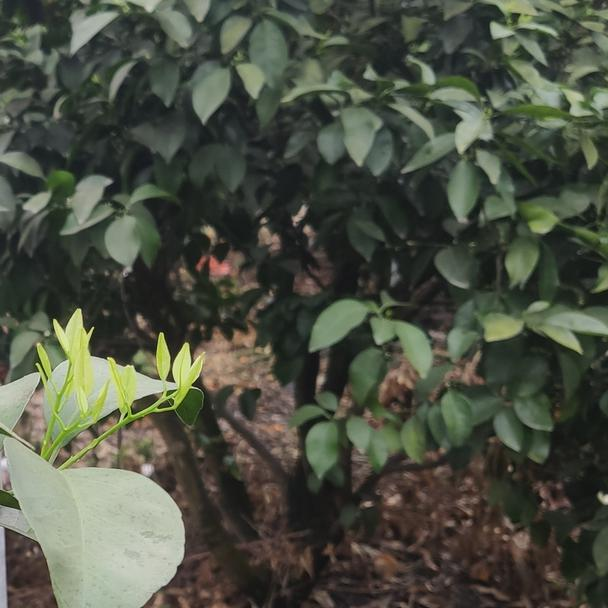shoot: (75, 348, 205, 460), (34, 315, 107, 458)
